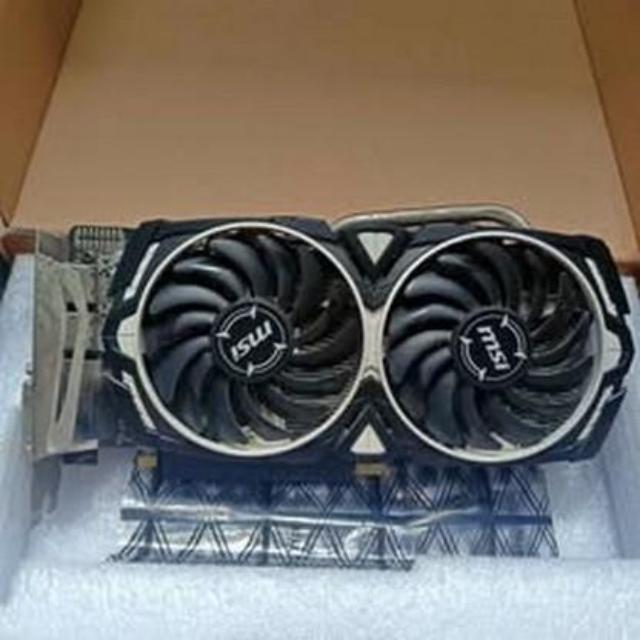GPU: (20, 196, 640, 498)
